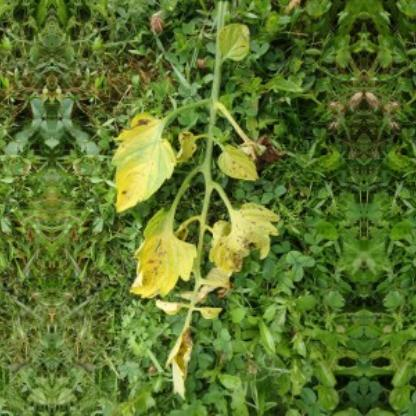Early-Blight: (82, 11, 345, 407), (96, 97, 182, 205), (204, 190, 298, 288), (132, 173, 194, 313), (210, 100, 302, 188), (163, 290, 233, 402)
